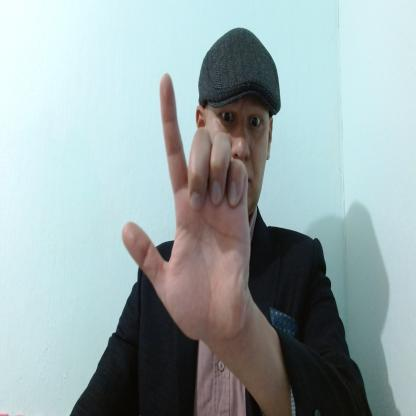L: (121, 71, 248, 340)
